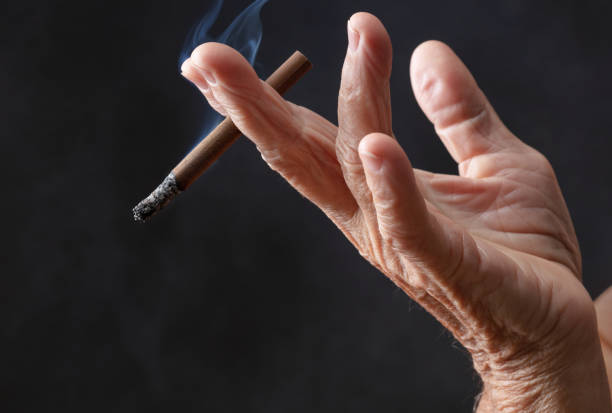cigarette: (133, 49, 314, 224)
